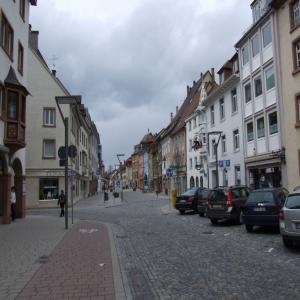Vehicle-registration-plate: (255, 208, 267, 212), (214, 205, 222, 208), (297, 224, 300, 230), (181, 201, 186, 203)
